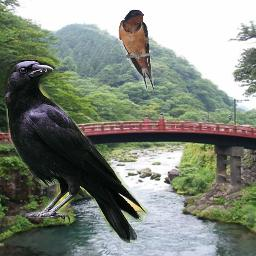Crow: (4, 60, 148, 245)
Swallow: (118, 9, 154, 91)
